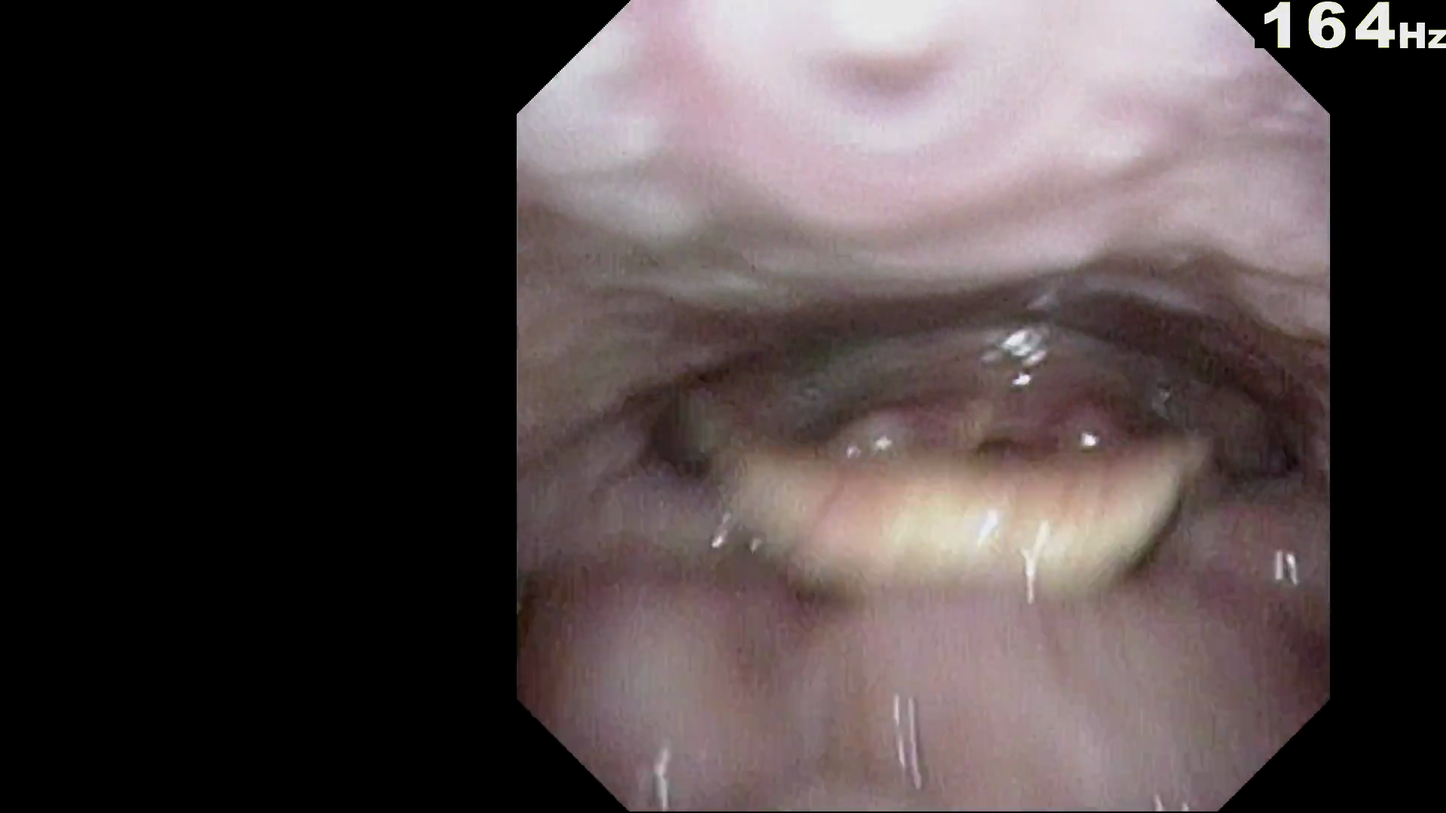epiglottis: (683, 479, 1213, 656)
trachea: (933, 445, 1051, 563)
